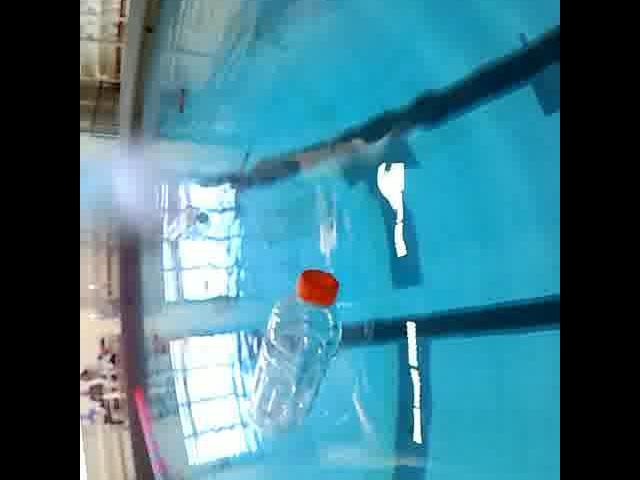Bottle: (242, 260, 350, 438)
